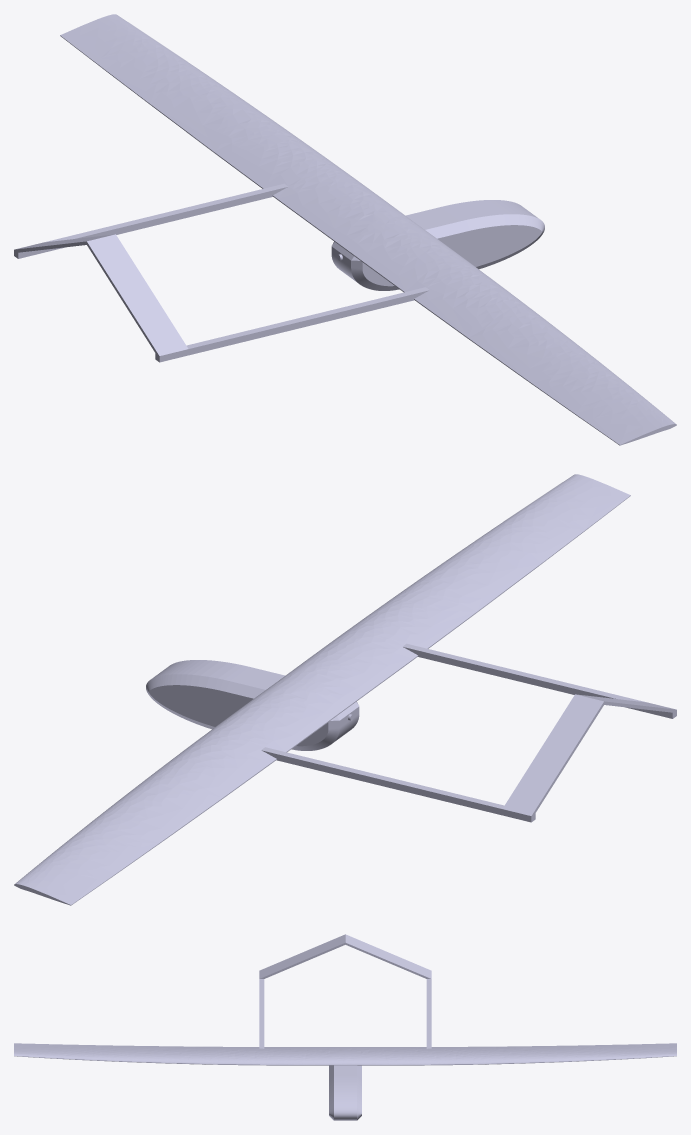
The model's file is ifsys.dae.
3 renders of one model, top to bottom at view 1: azimuth 30°, elevation 25°; view 2: azimuth 150°, elevation 25°; view 3: azimuth 270°, elevation 25°, orthographic. The views are drawn at different scales.
Parts seen in each view (by area): view 1: node1, node2, node0; view 2: node1, node2, node0; view 3: node1, node2, node0.
Boxes of the visible parts, x1,y1,x2,y2 form: node1: (60, 14, 676, 445); node2: (14, 183, 429, 362); node0: (331, 200, 544, 290); node1: (14, 474, 630, 905); node2: (261, 643, 676, 822); node0: (146, 660, 359, 750); node1: (14, 1043, 676, 1065); node2: (259, 934, 431, 1048); node0: (329, 1065, 361, 1120).
Bounding box in the file's own units: 1.85 × 4 × 0.4524.
